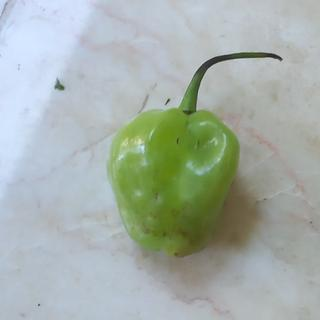Grade-B: (104, 99, 241, 264)
